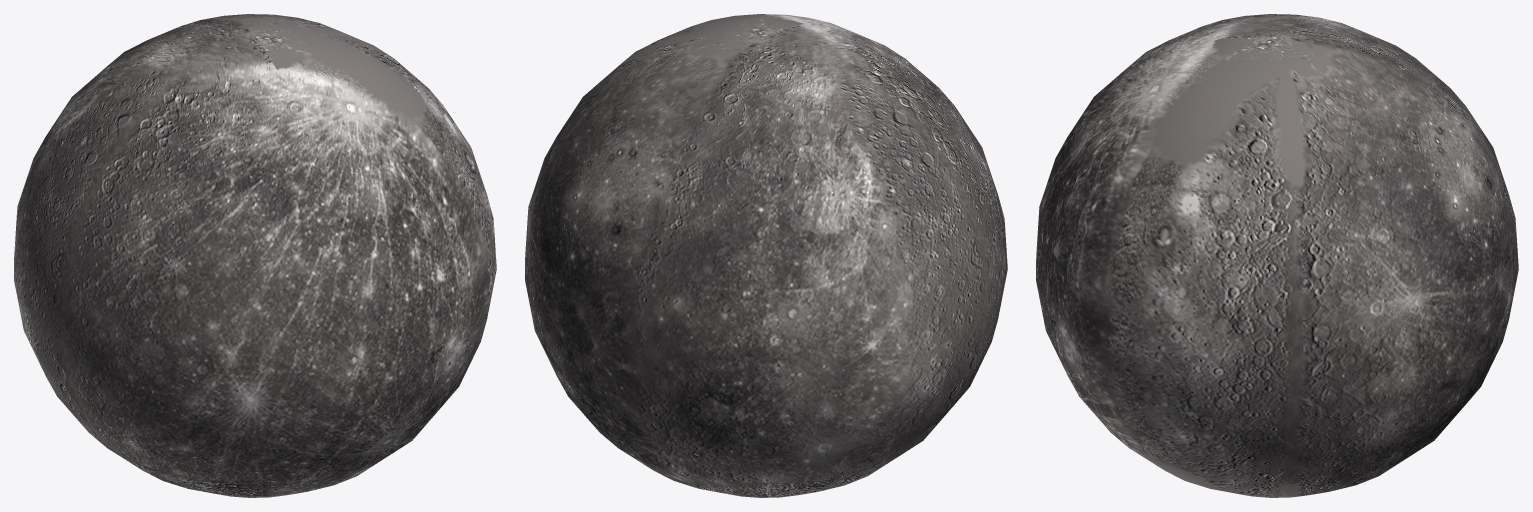
Rendered from Mercury.FBX.
3 renders of one model, left to right at view 1: azimuth 30°, elevation 25°; view 2: azimuth 150°, elevation 25°; view 3: azimuth 270°, elevation 25°, orthographic.
Parts seen in each view (by area): view 1: Sun; view 2: Sun; view 3: Sun.
Boxes of the visible parts, x1=… form: Sun: x1=14, y1=14, x2=496, y2=497; Sun: x1=525, y1=14, x2=1007, y2=497; Sun: x1=1036, y1=14, x2=1518, y2=497.
Bounding box in the file's own units: 11.07 × 11.11 × 11.05.
1 material, 1 textured.
